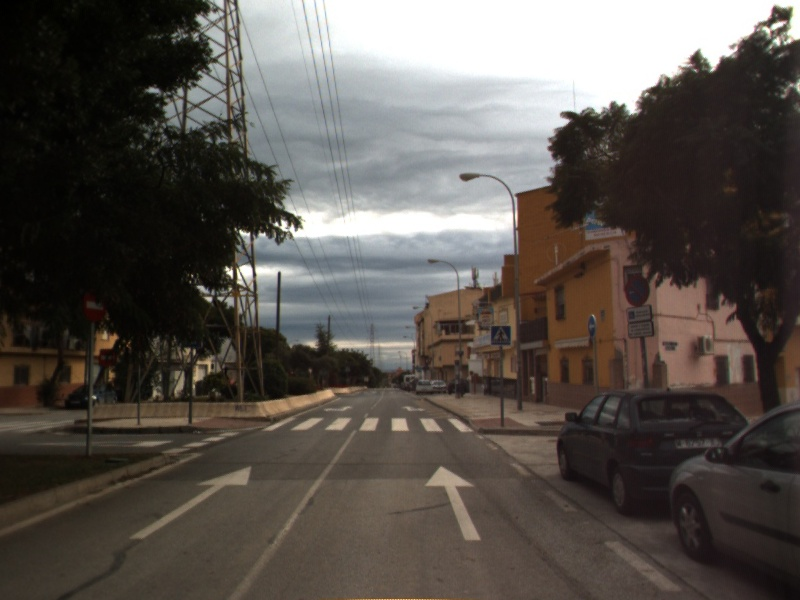STRAIGHT: (127, 464, 253, 541), (423, 463, 483, 542)
STRAIGHT_LEFT: (321, 403, 355, 414)
STRAIGHT_RIGHT: (400, 403, 428, 414)
